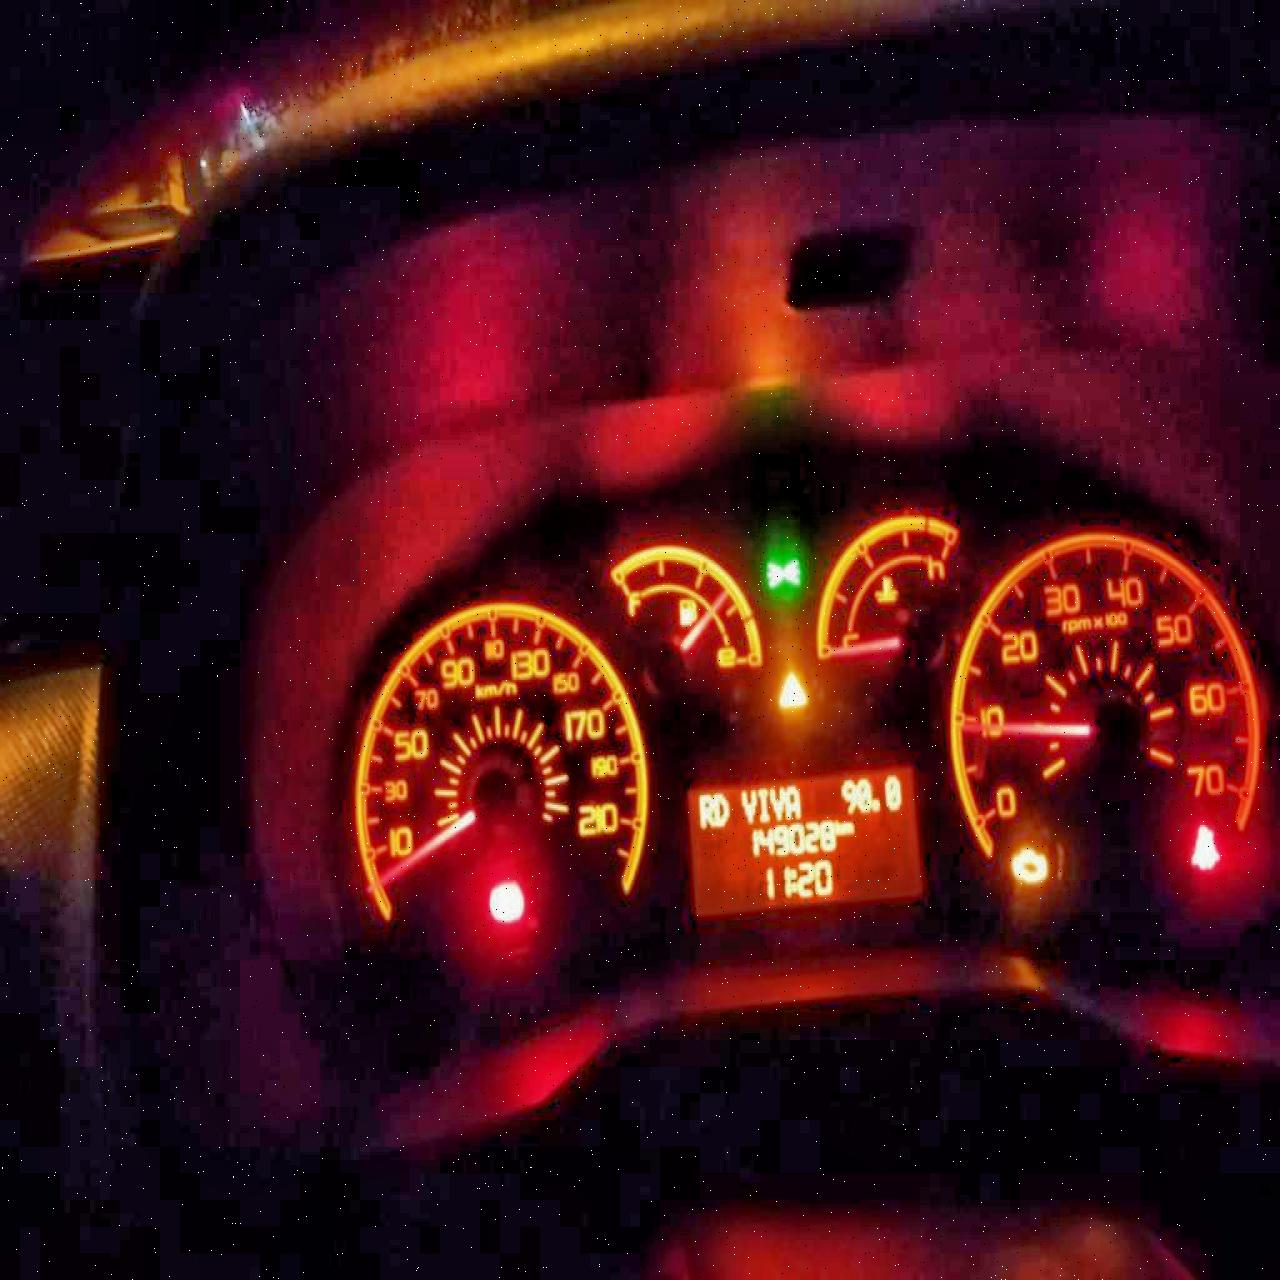-: (870, 797, 880, 811)
0: (813, 858, 831, 894), (884, 774, 900, 810), (857, 776, 871, 811), (789, 822, 803, 853)
1: (783, 863, 791, 897), (765, 865, 774, 898), (751, 829, 758, 857)
2: (796, 860, 813, 897), (803, 821, 818, 852)
4: (757, 826, 774, 856)
8: (817, 818, 835, 852)
9: (839, 778, 856, 813), (774, 823, 788, 855)
X: (784, 783, 802, 818), (713, 791, 729, 826), (740, 789, 756, 824), (697, 791, 713, 829), (769, 785, 783, 821), (756, 787, 769, 822), (844, 818, 855, 837), (835, 817, 844, 837), (789, 866, 796, 892)
odometer: (686, 762, 922, 920)
